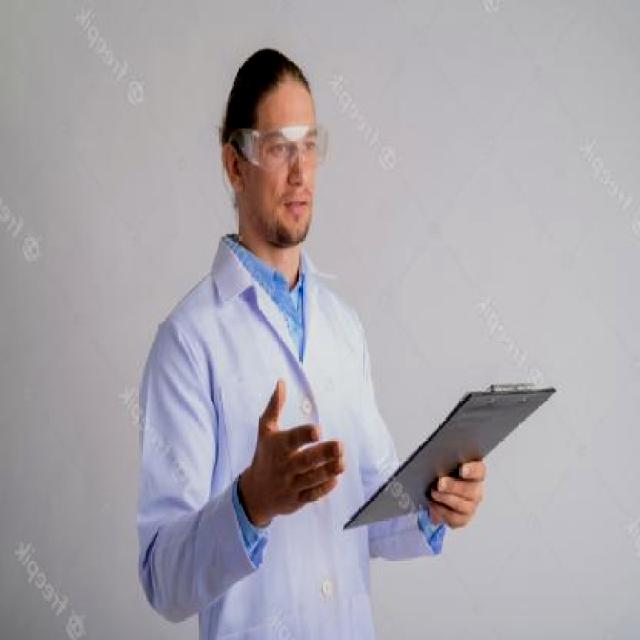face_nomask: (262, 120, 330, 225)
glasses: (226, 121, 328, 181)
hand_noglove: (245, 374, 347, 524), (425, 452, 492, 536)
head_nohelmet: (234, 43, 318, 102)
person: (140, 46, 403, 629)
